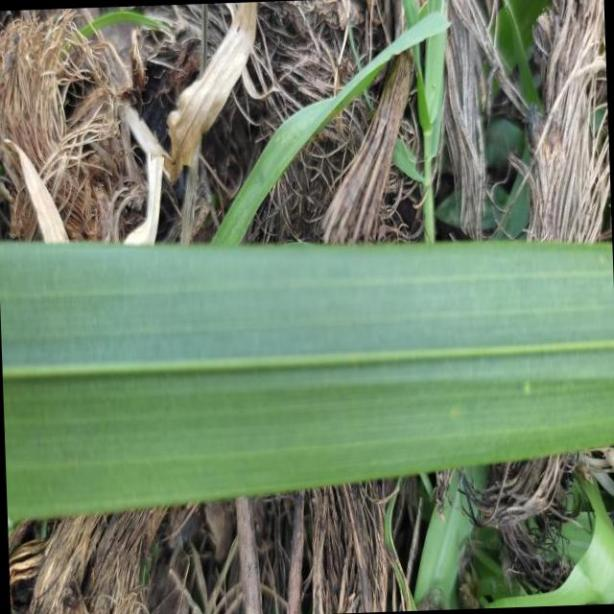Healthy: (0, 238, 614, 523)
